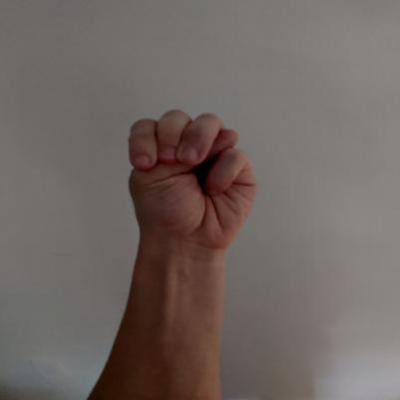hand: (118, 105, 262, 254)
